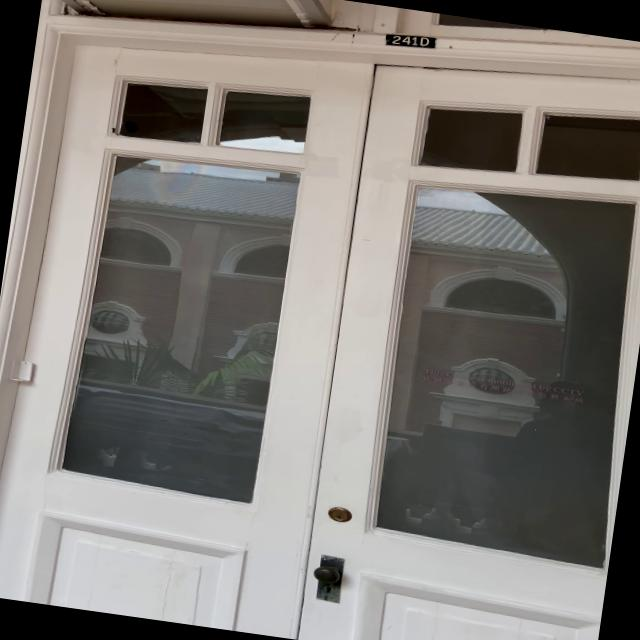room241d: (381, 29, 438, 54)
